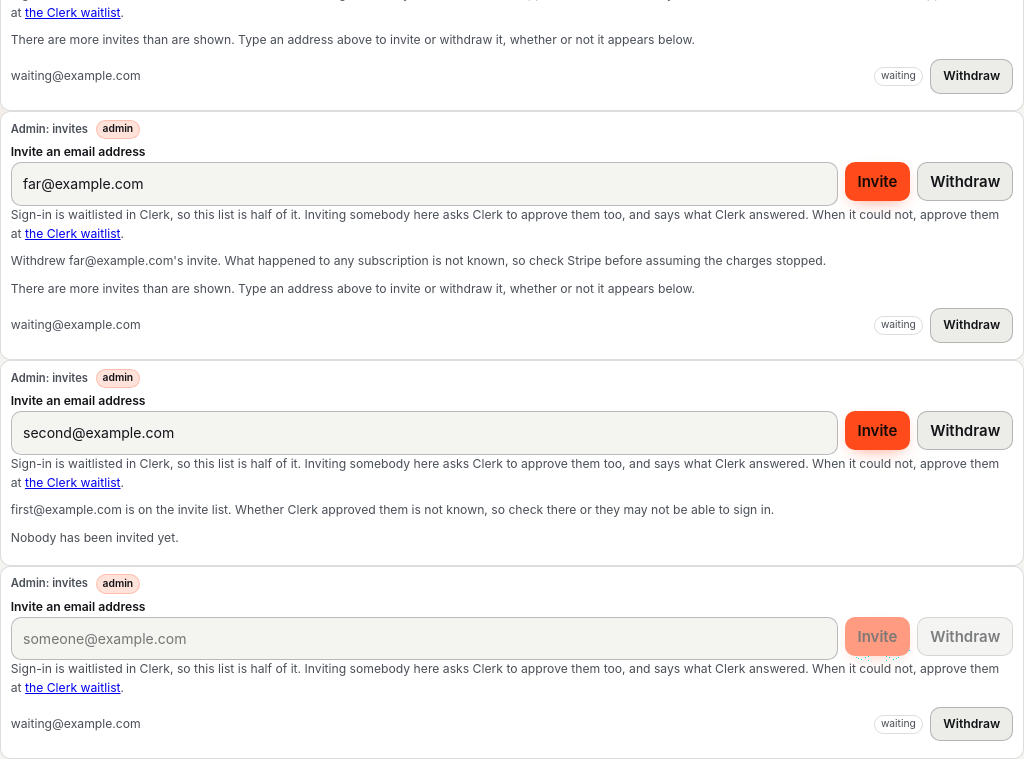
Test: the invite panel › leaves the rows up when a refresh fails
This screenshot has width=1024, height=759.
(page scrolled)
What coordinates should you click on to do the following:
click the 6th button "Withdraw"
I would click on:
 (972, 724)
Its box is x1=930 y1=707 x2=1013 y2=742.
(page scrolled)
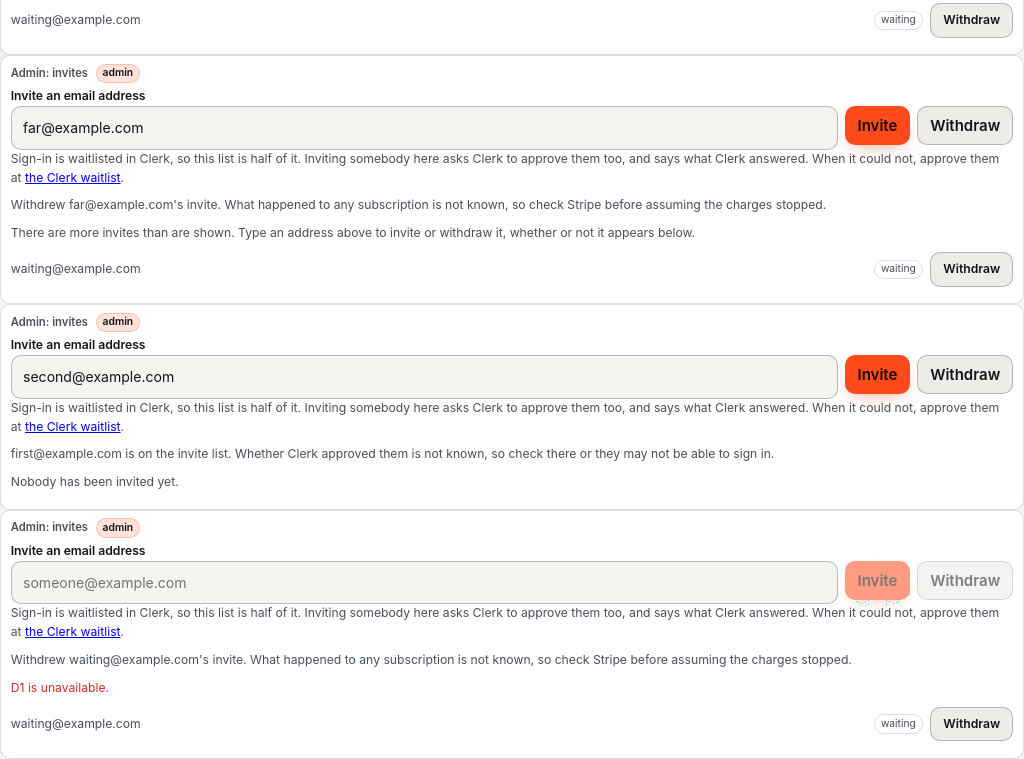
expect the text "Nobody has been invited yet" is not shown: met
expect the text "D1 is unavailable" is shown: met, box x1=11 y1=680 x2=109 y2=695
